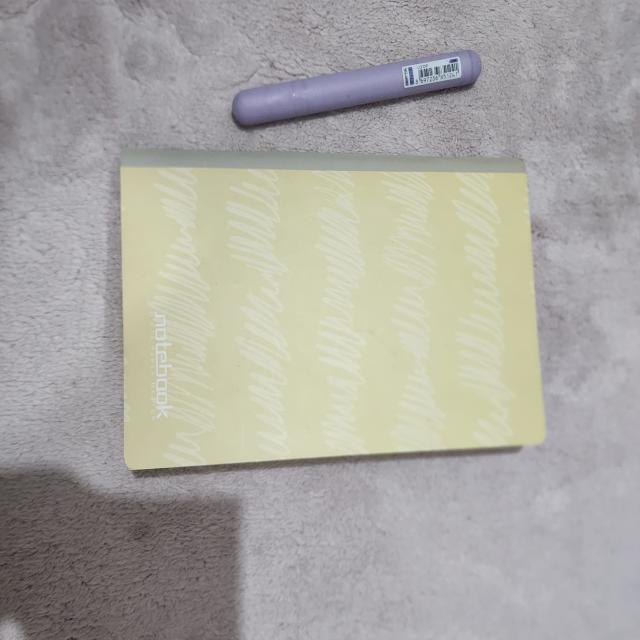defter: (120, 147, 547, 470)
kalem2: (231, 50, 482, 127)
